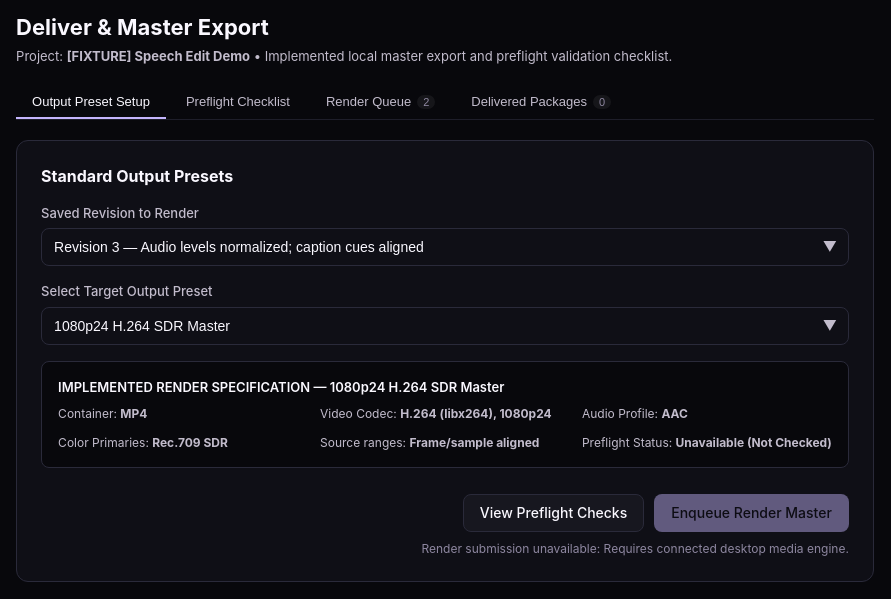
DeliveryTruth: Deliver Route Truth & Gating › renders honest empty packages view with no fabricated master artifact or dead Finder action
# Navigate to Delivered Packages tab
Click the tab "Delivered Packages 0" at (541, 102), box [455,86,627,119]
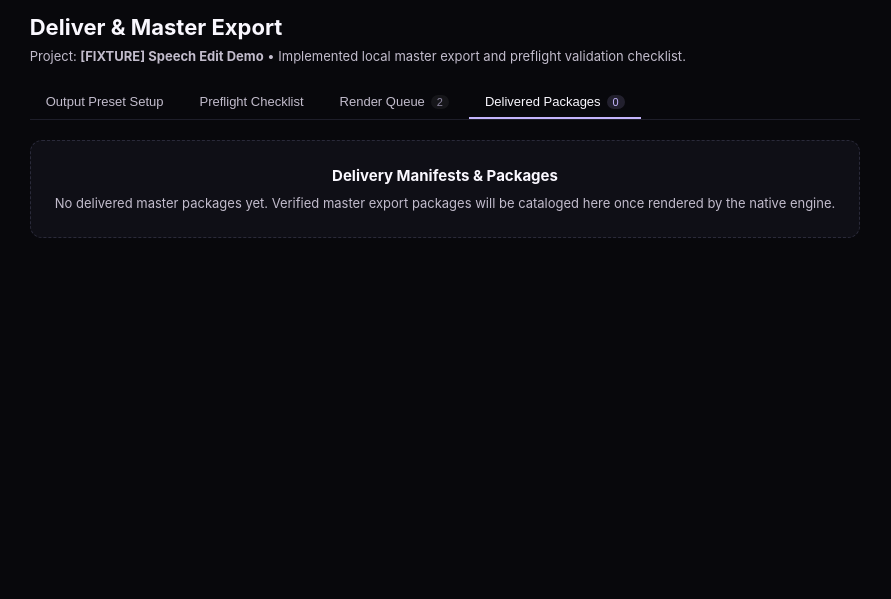
Result: the heading "Delivery Manifests & Packages" is shown at [332,166,558,185]
Result: the text "No delivered master packages yet" is shown at [55,196,835,212]
